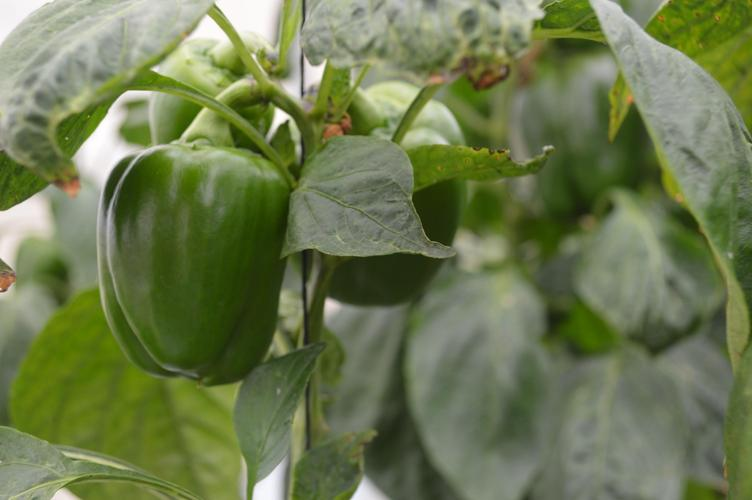BellPepper: (99, 147, 289, 382), (307, 81, 465, 307)
